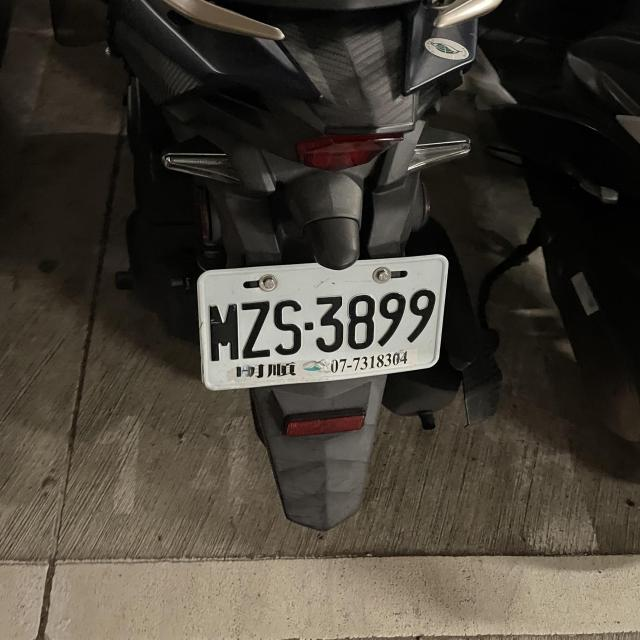W: (193, 253, 449, 392)
